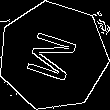M_E: (22, 26, 85, 86)
